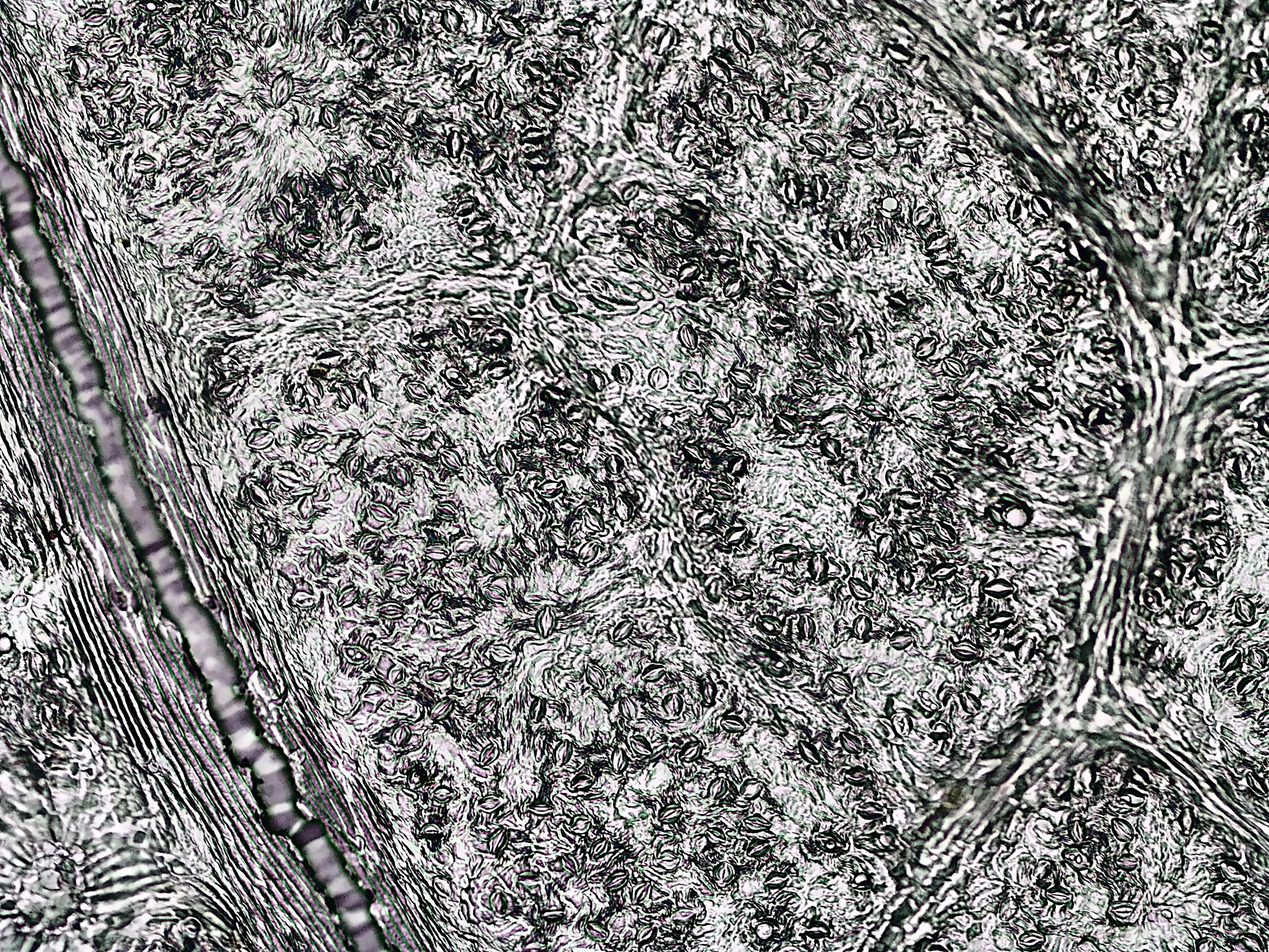stomata: (808, 827, 850, 855), (992, 498, 1031, 528), (247, 477, 276, 517), (646, 20, 675, 56), (595, 335, 635, 360), (744, 237, 776, 268), (701, 54, 734, 84), (1231, 450, 1259, 485), (209, 349, 245, 376), (473, 741, 510, 767), (1018, 343, 1056, 368), (269, 70, 294, 107), (533, 603, 560, 637), (1219, 857, 1250, 886), (1233, 218, 1261, 250), (1061, 846, 1093, 874), (946, 640, 982, 664), (897, 165, 929, 192), (1106, 899, 1145, 921), (1089, 332, 1126, 355), (980, 577, 1017, 600), (1183, 598, 1208, 632), (334, 638, 368, 663), (1024, 261, 1053, 290), (1233, 257, 1262, 286), (549, 738, 578, 767), (1109, 814, 1138, 843), (547, 289, 578, 316), (856, 398, 894, 420), (492, 444, 518, 476), (400, 762, 425, 795), (795, 738, 824, 766), (995, 892, 1022, 922), (1242, 769, 1269, 799), (496, 14, 527, 40), (1135, 169, 1160, 201), (452, 61, 480, 89), (1090, 138, 1124, 161), (61, 53, 87, 83), (1147, 80, 1178, 105), (1044, 884, 1075, 909), (732, 24, 756, 56), (535, 899, 567, 923), (708, 87, 735, 115), (1238, 107, 1264, 136), (588, 838, 618, 863), (1204, 891, 1238, 913), (710, 859, 734, 890), (49, 646, 73, 677), (462, 667, 497, 688), (515, 535, 542, 562), (1113, 92, 1139, 120), (888, 626, 916, 652), (837, 730, 865, 756), (1028, 386, 1057, 411), (1111, 0, 1140, 25), (634, 922, 659, 951), (655, 801, 685, 825), (1247, 47, 1267, 83), (855, 801, 889, 822), (480, 582, 511, 605), (353, 533, 384, 556), (488, 887, 511, 918), (328, 17, 350, 49), (990, 402, 1017, 428), (957, 689, 983, 716), (916, 686, 943, 712), (486, 828, 514, 853), (386, 462, 415, 486), (825, 672, 854, 696), (677, 739, 706, 763), (291, 226, 324, 247), (189, 237, 219, 260), (1231, 594, 1254, 624), (287, 587, 317, 610), (79, 5, 110, 27), (306, 547, 328, 578), (425, 698, 456, 720), (1195, 564, 1222, 589), (608, 618, 635, 643), (764, 654, 791, 679), (1115, 39, 1136, 71), (580, 662, 608, 686), (1217, 645, 1241, 673), (350, 33, 374, 61), (799, 134, 828, 157), (223, 123, 252, 146), (481, 549, 504, 578), (209, 380, 244, 399), (482, 641, 515, 661), (332, 585, 362, 607), (1014, 927, 1044, 949), (1116, 790, 1149, 810), (947, 435, 978, 456), (298, 433, 329, 454), (439, 448, 465, 473), (879, 828, 904, 854), (1127, 763, 1152, 789), (796, 29, 823, 53), (1076, 63, 1100, 90), (668, 217, 696, 240), (639, 660, 667, 683), (767, 280, 799, 300), (212, 289, 244, 309), (522, 57, 551, 79), (1237, 143, 1259, 172), (1012, 636, 1034, 665), (30, 651, 52, 680), (616, 694, 637, 724), (172, 917, 202, 938), (771, 577, 801, 598), (379, 568, 412, 587), (372, 602, 405, 621), (341, 452, 366, 477), (1065, 817, 1090, 842), (850, 104, 876, 128), (337, 204, 361, 230), (473, 694, 499, 718), (326, 167, 353, 190), (106, 79, 133, 102), (606, 867, 629, 894), (893, 490, 924, 510), (753, 616, 784, 636), (274, 467, 305, 487), (748, 94, 770, 122), (255, 21, 277, 49), (851, 612, 873, 640), (705, 401, 734, 422), (1197, 504, 1226, 525), (650, 850, 682, 869), (1085, 400, 1104, 432), (671, 263, 701, 283), (875, 536, 899, 561), (990, 450, 1015, 474), (1239, 928, 1264, 952), (142, 106, 168, 129), (259, 522, 282, 548), (1177, 802, 1194, 837), (246, 428, 273, 450), (523, 798, 556, 816), (1198, 13, 1225, 35), (252, 248, 283, 267), (815, 407, 846, 426), (585, 505, 606, 533), (483, 91, 504, 119), (366, 127, 394, 148), (809, 173, 829, 202), (692, 510, 721, 530), (1030, 2, 1050, 31), (928, 562, 957, 582), (743, 838, 772, 858), (429, 784, 461, 802), (815, 300, 840, 323), (1038, 311, 1063, 334), (370, 161, 393, 186), (557, 850, 580, 875), (613, 250, 639, 272), (807, 553, 829, 579), (894, 128, 924, 147), (485, 361, 512, 382), (304, 375, 324, 403), (270, 196, 290, 224), (526, 693, 546, 721), (699, 674, 717, 705), (774, 412, 798, 435), (978, 326, 1001, 350), (430, 875, 453, 899), (884, 291, 913, 310), (987, 609, 1016, 628), (841, 766, 870, 785), (317, 347, 346, 366), (786, 98, 808, 123), (929, 471, 955, 492), (367, 502, 393, 523), (145, 28, 171, 49), (387, 724, 413, 745), (525, 151, 551, 172), (564, 404, 590, 425), (924, 232, 951, 252), (847, 140, 877, 158), (441, 5, 459, 35), (846, 580, 873, 600), (422, 665, 449, 685), (567, 774, 597, 792), (583, 922, 610, 942), (1248, 644, 1268, 671), (932, 260, 960, 279), (763, 871, 791, 890), (1029, 195, 1052, 218), (772, 541, 795, 564), (739, 777, 762, 800), (402, 2, 424, 26), (392, 45, 416, 67), (789, 377, 814, 398), (784, 178, 805, 203), (818, 438, 843, 459), (185, 178, 210, 199), (387, 665, 408, 690), (661, 693, 686, 714), (1210, 533, 1231, 558), (477, 794, 506, 812), (894, 712, 914, 738), (633, 881, 653, 907), (464, 853, 484, 879), (812, 258, 832, 284), (766, 315, 793, 334), (984, 270, 1003, 297), (535, 88, 562, 107), (99, 36, 126, 55), (614, 495, 633, 522), (680, 441, 703, 463), (577, 543, 599, 566), (548, 526, 570, 549), (868, 664, 890, 687), (1237, 675, 1259, 698), (930, 720, 952, 743), (583, 369, 607, 390), (725, 454, 746, 478), (1139, 146, 1163, 167), (1005, 197, 1025, 222), (709, 480, 734, 500), (411, 332, 436, 352), (807, 60, 832, 80), (609, 749, 629, 774), (729, 369, 755, 388), (721, 278, 747, 297), (290, 175, 309, 201), (774, 892, 800, 911), (448, 131, 466, 158), (423, 542, 450, 560), (720, 714, 747, 732), (804, 921, 831, 939), (358, 685, 385, 703), (680, 101, 702, 123), (679, 369, 700, 392), (799, 350, 822, 371), (915, 336, 936, 359), (911, 206, 934, 227), (1009, 300, 1030, 323), (475, 153, 498, 174), (856, 325, 872, 355), (724, 527, 749, 546), (617, 222, 643, 240), (556, 442, 585, 458), (969, 203, 991, 224), (561, 57, 583, 78), (209, 47, 231, 68), (944, 358, 967, 378), (831, 227, 851, 250), (569, 814, 592, 834), (1142, 589, 1165, 609), (856, 500, 883, 517), (537, 481, 564, 498), (726, 584, 753, 601), (648, 366, 667, 390), (467, 217, 491, 236), (453, 198, 477, 217), (1174, 539, 1198, 558), (404, 380, 429, 398), (322, 104, 340, 129), (706, 578, 724, 603), (1027, 862, 1052, 880), (434, 501, 460, 518), (515, 869, 541, 886), (613, 363, 634, 384), (198, 1, 219, 22), (555, 825, 576, 846), (444, 368, 466, 388), (796, 614, 816, 636), (840, 464, 859, 487), (450, 317, 469, 340), (401, 107, 424, 126), (703, 825, 726, 844), (296, 495, 315, 518), (519, 123, 546, 139), (559, 19, 586, 35), (169, 149, 193, 167), (95, 126, 122, 142), (1046, 40, 1073, 56), (584, 235, 611, 251), (1158, 114, 1182, 132), (187, 127, 212, 144), (745, 814, 770, 831), (928, 397, 956, 412), (519, 416, 539, 437), (715, 138, 737, 157), (936, 521, 955, 543), (1199, 39, 1218, 61), (425, 593, 447, 612), (711, 249, 737, 265), (717, 172, 743, 188), (680, 325, 698, 348), (691, 151, 714, 169), (337, 382, 354, 406), (419, 822, 443, 839), (405, 426, 432, 441), (604, 453, 624, 473), (865, 229, 886, 248), (134, 155, 155, 174), (708, 778, 726, 800), (898, 568, 915, 591), (1252, 896, 1269, 919), (946, 591, 970, 607), (907, 528, 926, 548), (229, 0, 250, 18), (1168, 561, 1185, 583), (285, 380, 301, 403), (621, 182, 639, 202), (364, 234, 384, 252), (371, 424, 395, 439), (168, 71, 192, 85), (1118, 854, 1139, 870), (588, 277, 606, 295), (453, 539, 475, 553), (831, 356, 846, 376), (894, 326, 911, 343), (951, 148, 967, 165), (360, 371, 372, 393), (1193, 937, 1210, 952), (626, 735, 644, 745), (1258, 712, 1269, 728)
